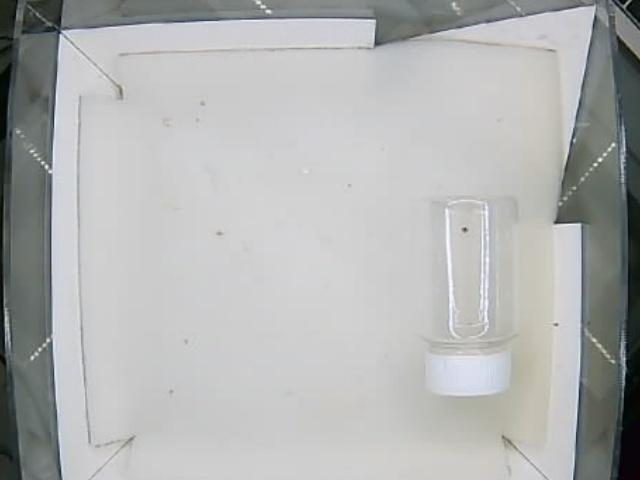Bottle: (418, 191, 526, 398)
